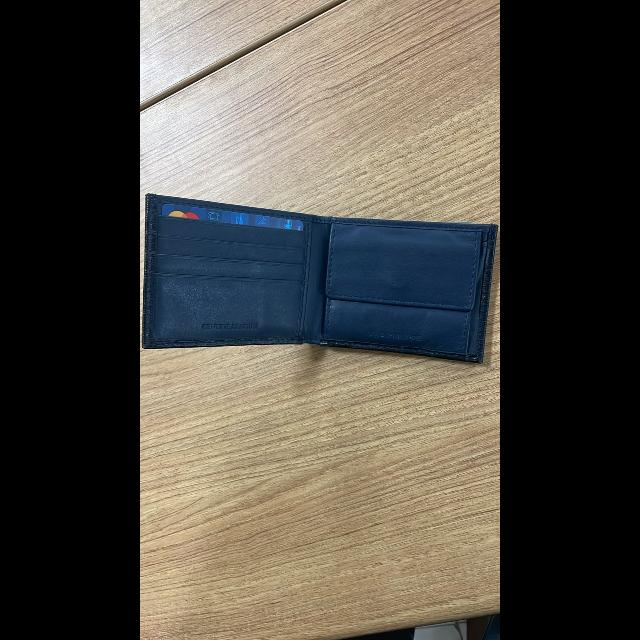wallet: (142, 170, 500, 386)
